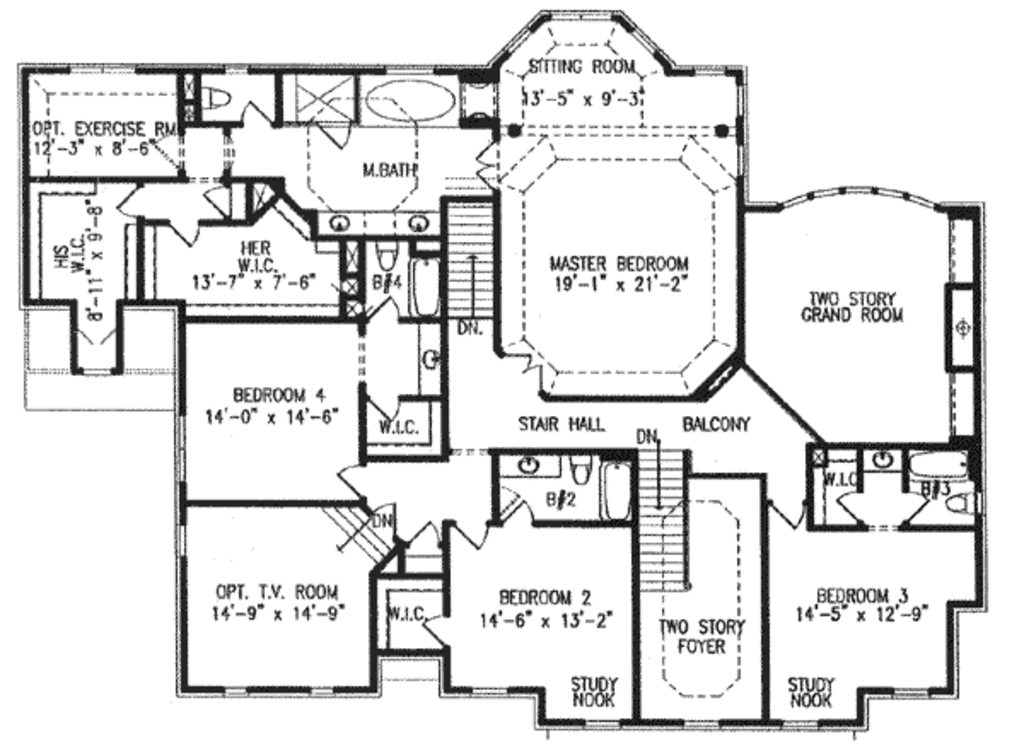door: (507, 347, 552, 390), (447, 517, 493, 551), (474, 139, 504, 189), (332, 460, 367, 501), (161, 216, 204, 247), (112, 186, 150, 220), (768, 499, 804, 532), (835, 488, 866, 525), (235, 102, 276, 129), (403, 520, 439, 550), (203, 185, 232, 219)
large_sink: (197, 78, 235, 113)
small_sink: (321, 210, 448, 235), (416, 320, 443, 403), (498, 451, 564, 479), (861, 448, 904, 474)
stairs: (631, 445, 693, 597), (443, 197, 503, 342)
tub: (354, 70, 460, 133), (598, 459, 634, 528), (406, 255, 443, 319), (905, 447, 971, 482)
windows: (774, 177, 933, 213), (542, 3, 620, 25), (170, 412, 192, 486), (66, 60, 141, 77), (171, 520, 191, 561), (885, 684, 931, 701)
